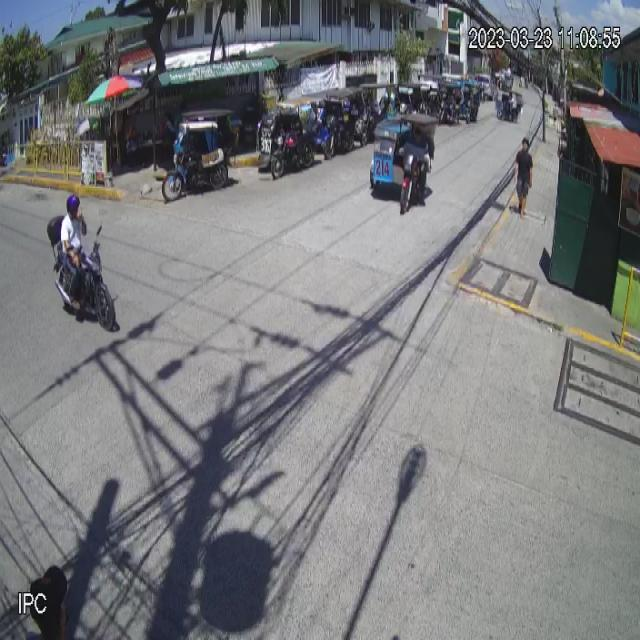Motorcycle: (47, 213, 117, 332)
Tricycle: (162, 108, 238, 202), (369, 112, 435, 216)
